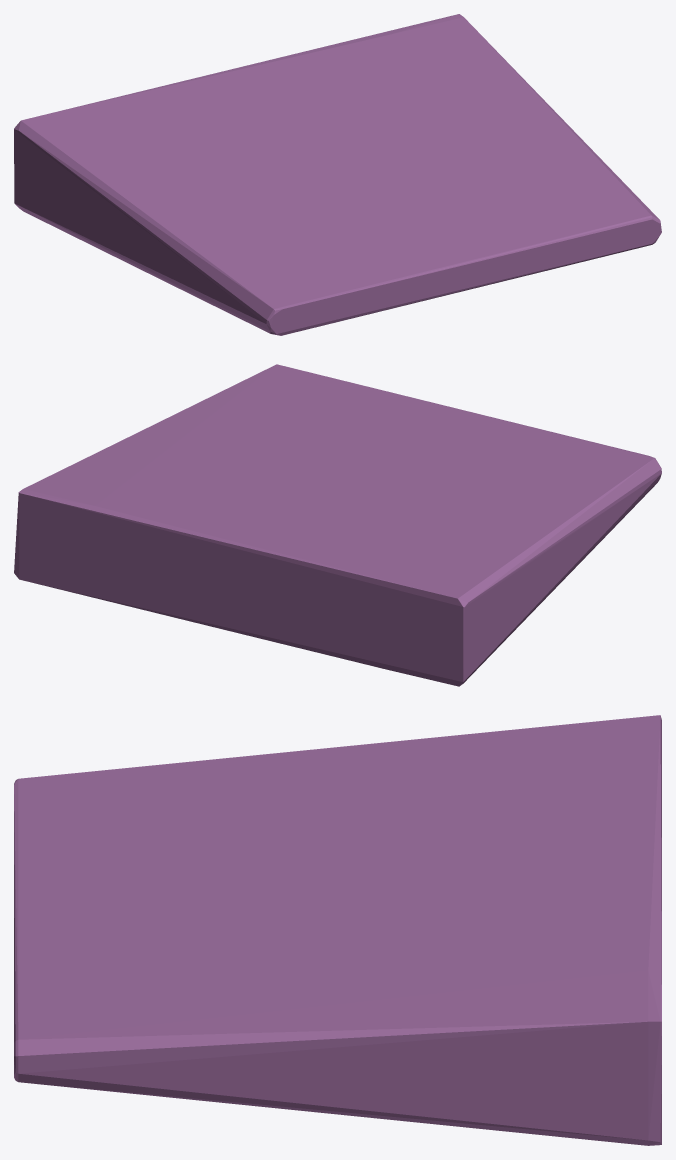
Rendered from barrier_fence_metal_a02.glb.
3 views of the same model, one above another, from view 1: azimuth 30°, elevation 25°; view 2: azimuth 150°, elevation 25°; view 3: azimuth 270°, elevation 25° (orthographic). The views are drawn at different scales.
Visible parts, largest first — view 1: geometry_0; view 2: geometry_0; view 3: geometry_0.
Boxes of the visible parts, x1,y1,x2,y2 form: geometry_0: [14, 14, 661, 335]; geometry_0: [14, 364, 661, 686]; geometry_0: [14, 715, 661, 1145].
Size of the model in its own units: 0.48 by 0.0898 by 0.4183.
